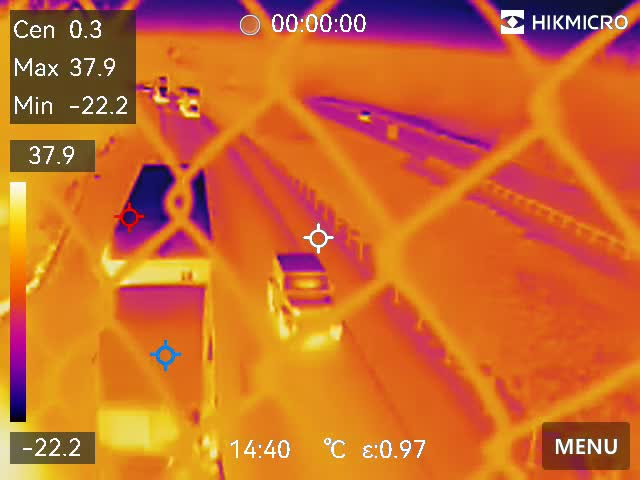heavyTruck: (92, 164, 223, 480), (177, 85, 204, 121), (151, 72, 170, 106)
largeCar: (267, 249, 344, 347)
